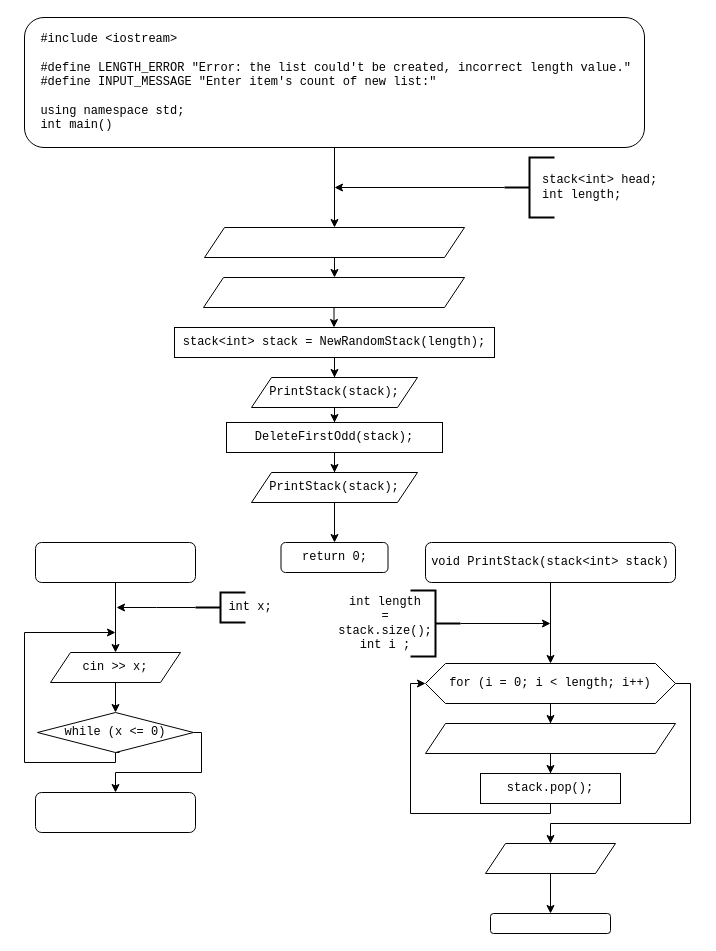
This 716x951 diagram has some shape labels left out. Each missing label, with the centre of its shape:
cout << endl;: (x=550, y=858)
cout << INPUT_MESSAGE << endl;: (x=334, y=242)
cout << stack.top() << '\t';: (x=550, y=738)
int ReadNaturalNum(): (x=115, y=562)
length = ReadNaturalNum();: (x=333, y=292)
return x;: (x=115, y=812)
